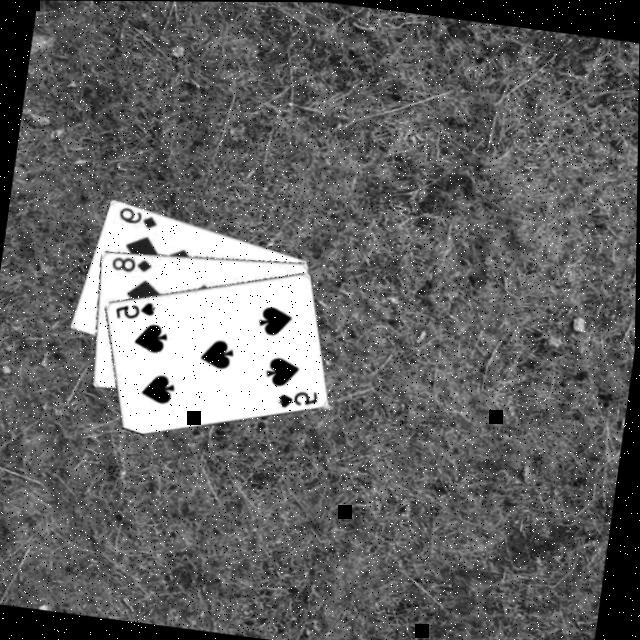5S: (276, 384, 324, 415), (113, 295, 160, 325)
8D: (109, 253, 157, 278)
9D: (116, 204, 162, 232)
